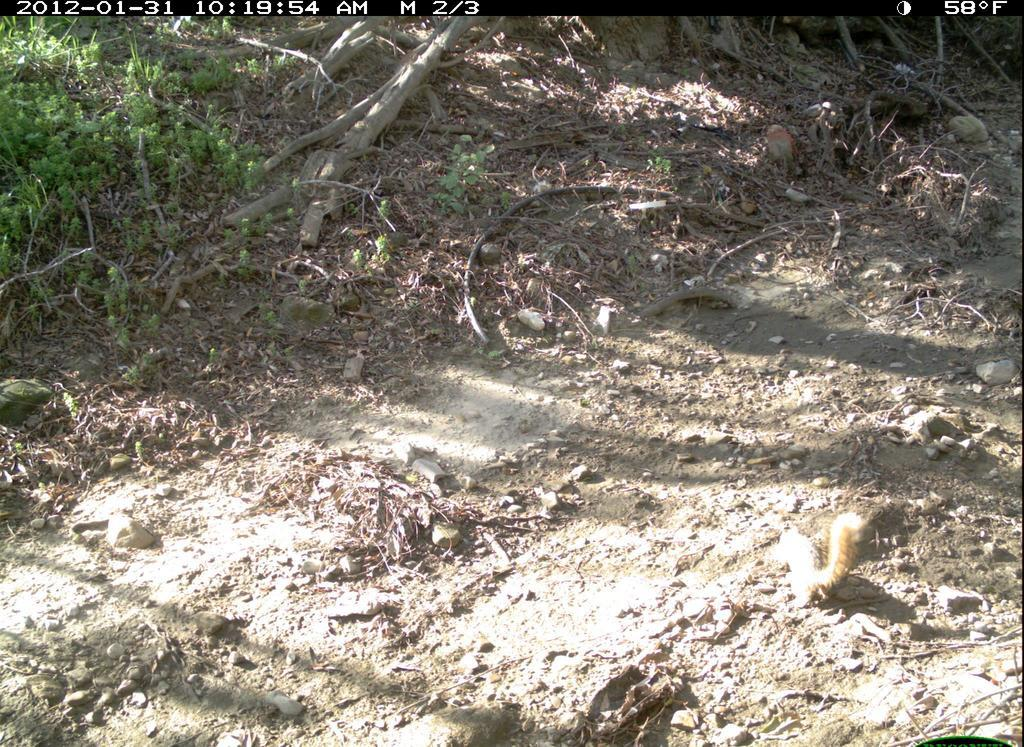squirrel: (753, 507, 881, 621)
